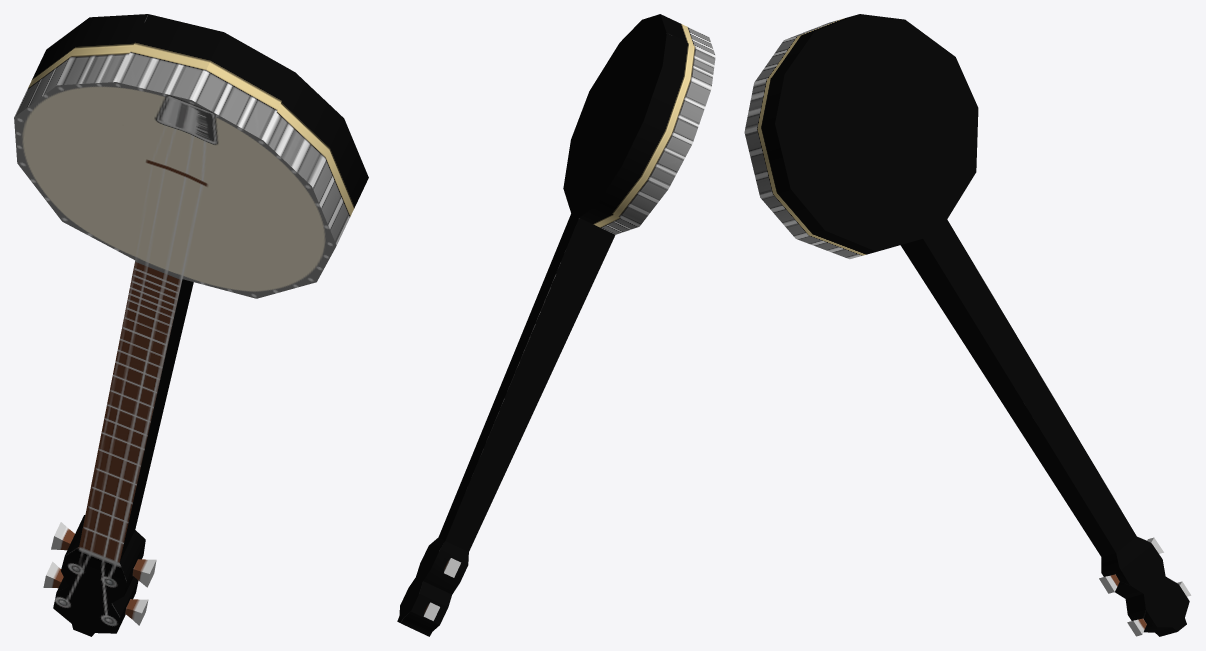
File: guitarra1_000211.obj
The picture shows the model from 3 angles, left to right: view 1: azimuth 30°, elevation 25°; view 2: azimuth 150°, elevation 25°; view 3: azimuth 270°, elevation 25°; orthographic projection. The views are drawn at different scales.
Visible parts, largest first — view 1: g1_pCube6; view 2: g1_pCube6; view 3: g1_pCube6.
Boxes of the visible parts, left/top/right/bottom form: g1_pCube6: left=14, top=14, right=368, bottom=636; g1_pCube6: left=397, top=14, right=715, bottom=636; g1_pCube6: left=744, top=14, right=1191, bottom=636.
Bounding box in the file's own units: 4.33 × 11.72 × 8.35.
